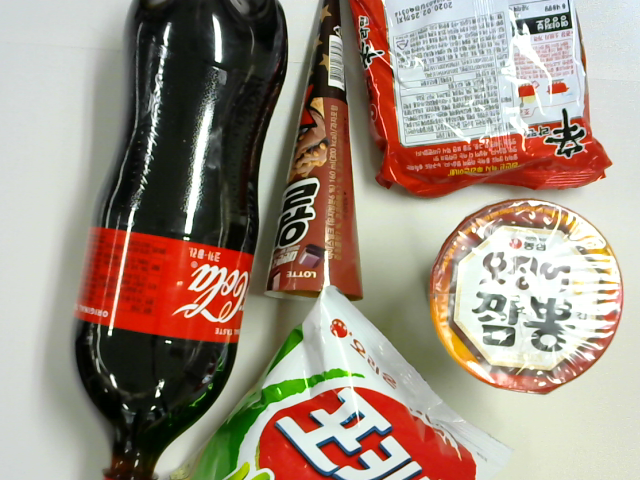Coca_Cola_1.5L: (79, 2, 288, 479)
Ojjam: (430, 203, 622, 391)
Pocachip_Onion: (158, 287, 504, 480)
Sinramen: (343, 1, 631, 212)
World_Cone_Choco: (266, 1, 365, 305)
